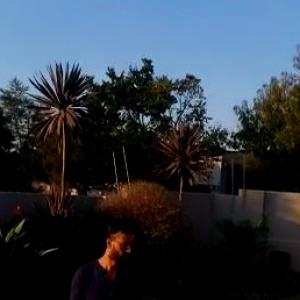follow: (64, 210, 144, 299)
